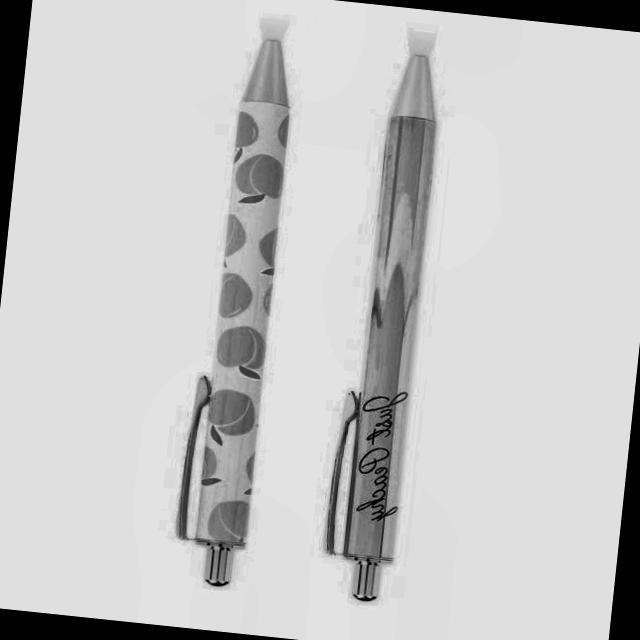Pen: (167, 19, 337, 601), (306, 39, 466, 626)
